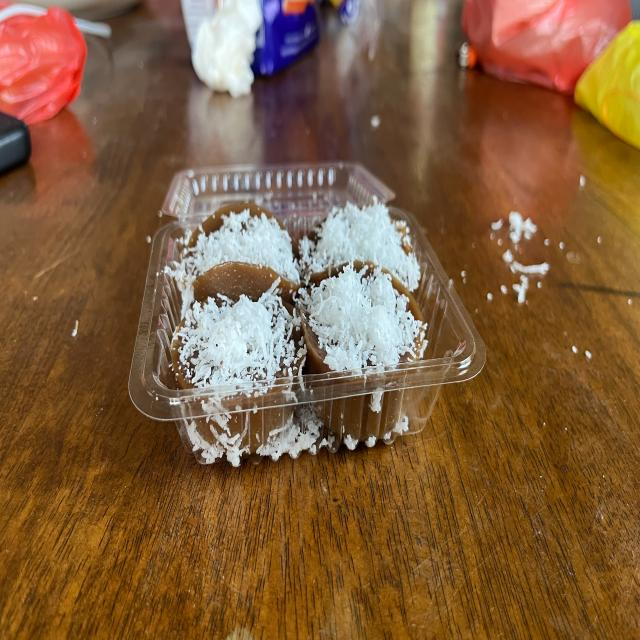Kuih lompang: (299, 262, 428, 371), (175, 202, 300, 313), (172, 287, 302, 389), (300, 198, 420, 291)
